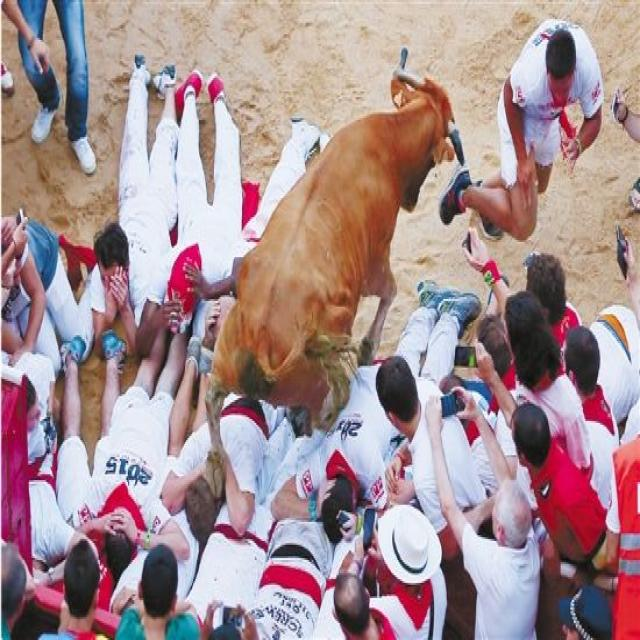10-: (0, 4, 637, 632)
down: (268, 263, 474, 547), (165, 292, 307, 534), (87, 32, 184, 358), (91, 284, 187, 569), (41, 299, 128, 608), (0, 190, 126, 400), (173, 58, 248, 392)
